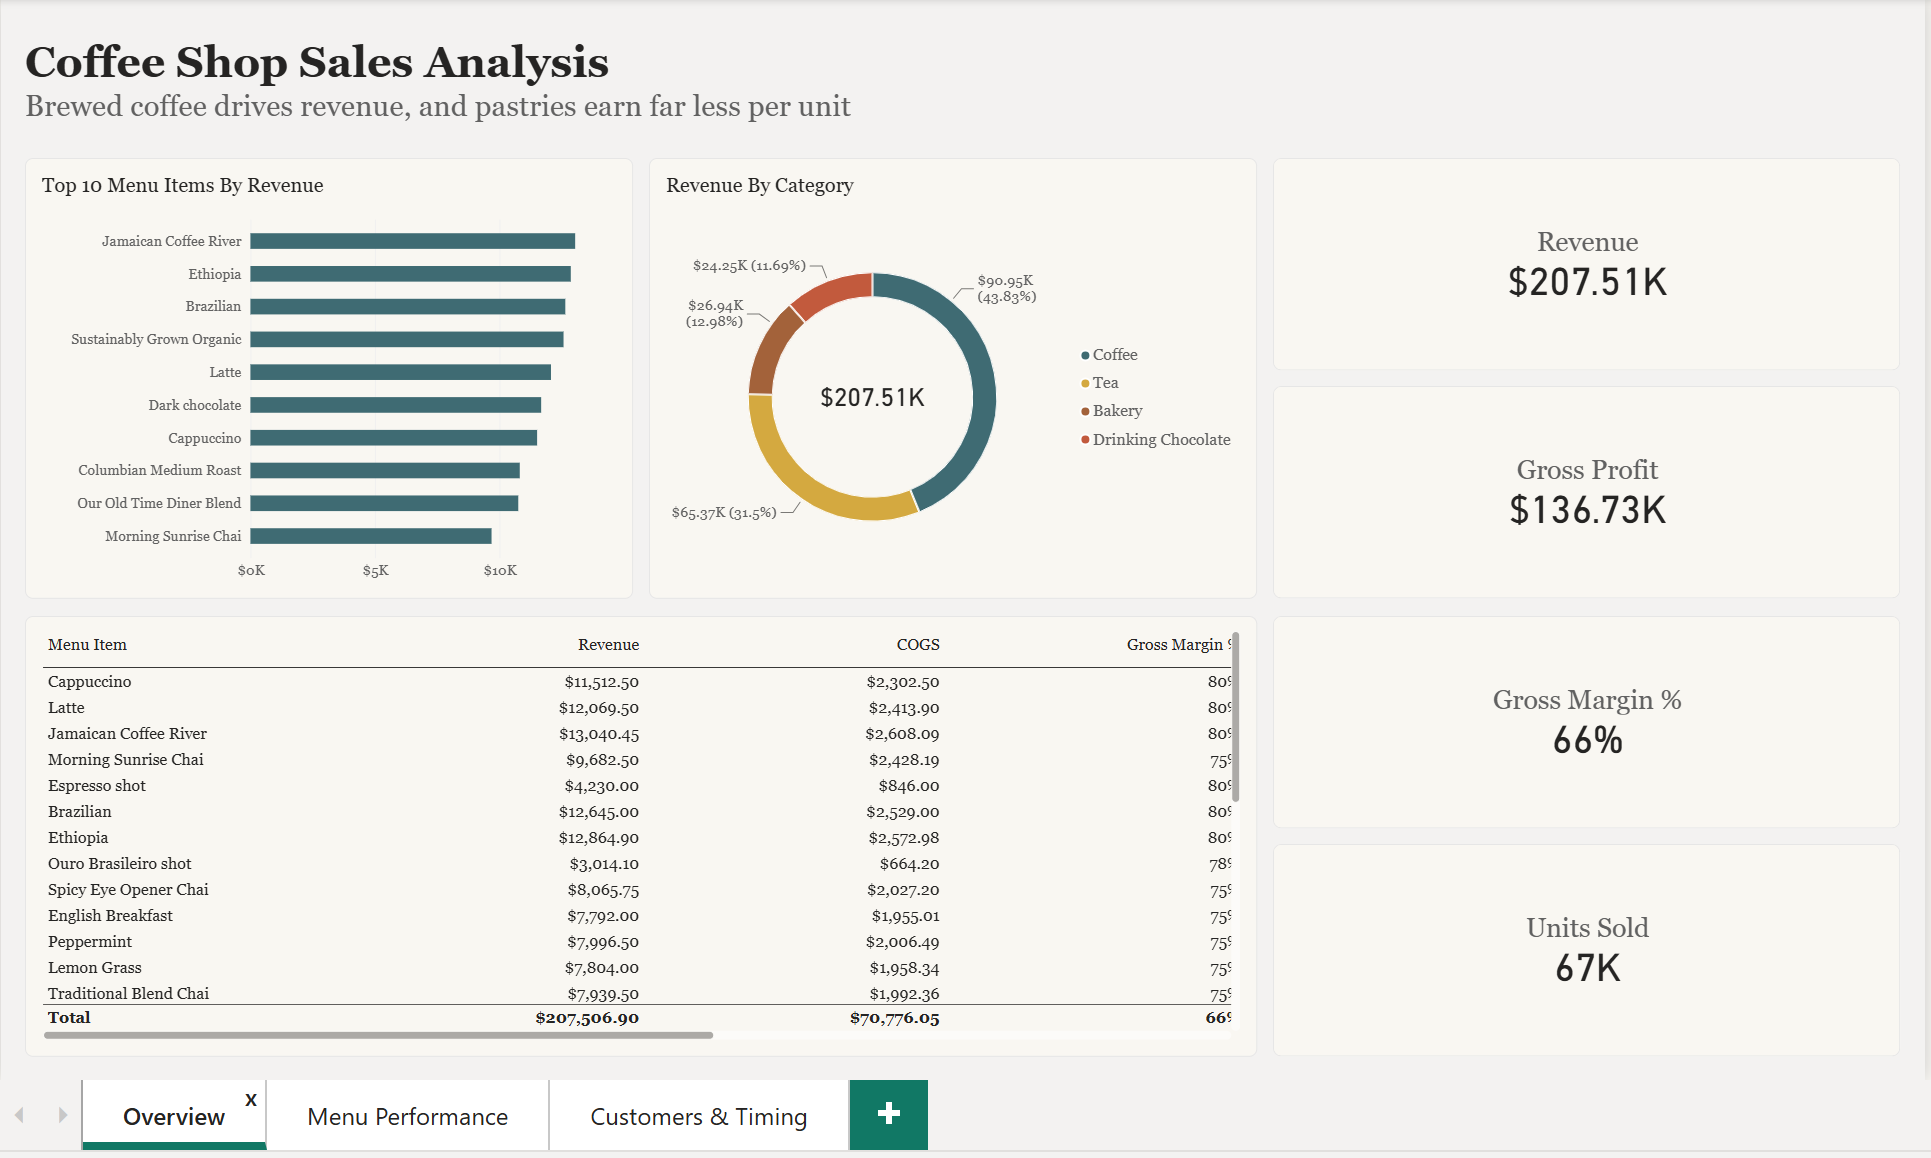

The page's visual inventory and layout, read from the dashboard file:
{"tool":"powerbi","page":{"name":"Overview","canvas":[1920,1080],"ordinal":0},"visuals":[{"type":"cardVisual","fields":{"Data":["sales_reciepts.Revenue"]},"box":[1270,160,626,212],"z":0},{"type":"cardVisual","fields":{"Data":["sales_reciepts.Units Sold"]},"box":[1270,844,626,212],"z":1000},{"type":"cardVisual","fields":{"Data":["sales_reciepts.Gross Profit"]},"box":[1270,388,626,212],"z":2000},{"type":"cardVisual","fields":{"Data":["sales_reciepts.Gross Margin %"]},"box":[1270,616,626,212],"z":3000},{"type":"clusteredBarChart","title":"Top 10 Menu Items By Revenue","fields":{"Category":["product.menu_item"],"Y":["sales_reciepts.Revenue"]},"box":[24,160,607,440],"z":4000},{"type":"textbox","title":"Coffee Shop Sales Analysis","box":[24,40,1200,120],"z":5000},{"type":"donutChart","title":"Revenue By Category","fields":{"Category":["product.product_category"],"Y":["sales_reciepts.Revenue"]},"box":[647,160,607,440],"z":6000},{"type":"tableEx","fields":{"Values":["product.menu_item","sales_reciepts.Revenue","sales_reciepts.COGS","sales_reciepts.Gross Margin %","sales_reciepts.Gross Profit","sales_reciepts.Units Sold","sales_reciepts.Profit per Unit"]},"box":[24,616,1230,440],"z":7000}]}

Visuals, with their boxes on the page's 1920x1080 design canvas (x1, y1, x2, y2). These are canvas units, not pixel positions in the 1931x1158 screenshot, which may show the page scaled, cropped or inside an application window:
cardVisual - sales_reciepts.Revenue: <region>1270, 160, 1896, 372</region>
cardVisual - sales_reciepts.Units Sold: <region>1270, 844, 1896, 1056</region>
cardVisual - sales_reciepts.Gross Profit: <region>1270, 388, 1896, 600</region>
cardVisual - sales_reciepts.Gross Margin %: <region>1270, 616, 1896, 828</region>
"Top 10 Menu Items By Revenue" clusteredBarChart: <region>24, 160, 631, 600</region>
"Coffee Shop Sales Analysis" textbox: <region>24, 40, 1224, 160</region>
"Revenue By Category" donutChart: <region>647, 160, 1254, 600</region>
tableEx - product.menu_item x sales_reciepts.Revenue: <region>24, 616, 1254, 1056</region>
